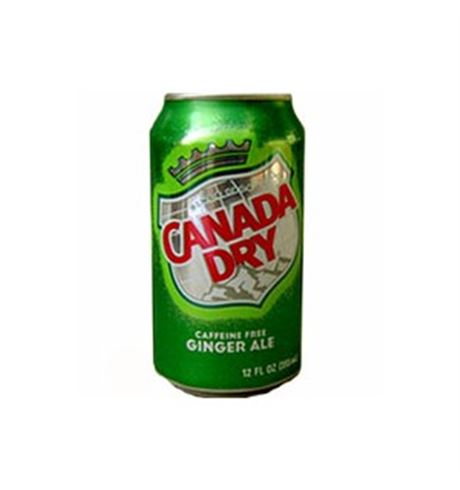Lata: (143, 87, 308, 402)
